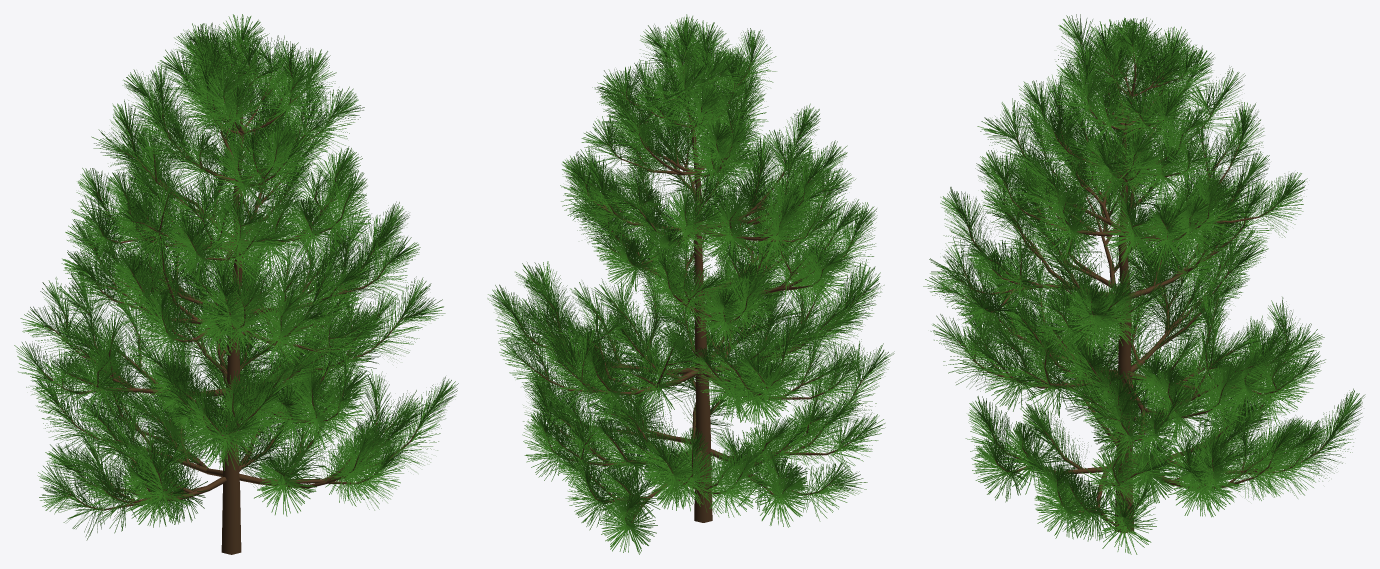
The model's file is fir_tree.glb.
3 views of the same model, side by side, from view 1: azimuth 30°, elevation 25°; view 2: azimuth 150°, elevation 25°; view 3: azimuth 270°, elevation 25° (orthographic). The views are drawn at different scales.
Parts seen in each view (by area): view 1: leaves, tree; view 2: leaves, tree; view 3: leaves, tree.
Part boxes in pixels (x1,y1,x2,y2): leaves: [14, 14, 458, 540]; tree: [36, 44, 427, 554]; leaves: [487, 14, 894, 554]; tree: [513, 52, 872, 524]; leaves: [923, 14, 1365, 554]; tree: [947, 42, 1328, 533].
Size of the model in its own units: 2.81 by 3.59 by 2.79.
